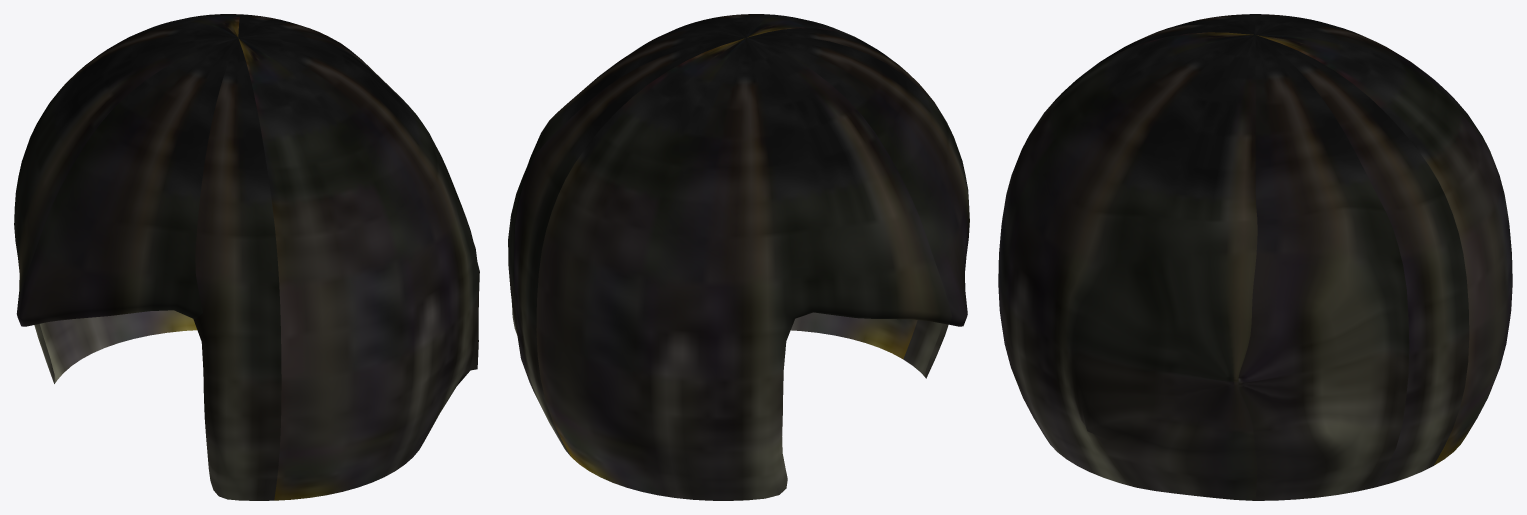
File: Hair.fbx
The picture shows the model from 3 angles, left to right: view 1: azimuth 30°, elevation 25°; view 2: azimuth 150°, elevation 25°; view 3: azimuth 270°, elevation 25°; orthographic projection. The views are drawn at different scales.
Visible parts, largest first — view 1: Queen Body.001; view 2: Queen Body.001; view 3: Queen Body.001.
Boxes of the visible parts, x1,y1,x2,y2 form: Queen Body.001: (14,14,479,500); Queen Body.001: (508,14,969,500); Queen Body.001: (998,14,1512,500).
Size of the model in its own units: 0.9515 by 0.7976 by 0.9607.
